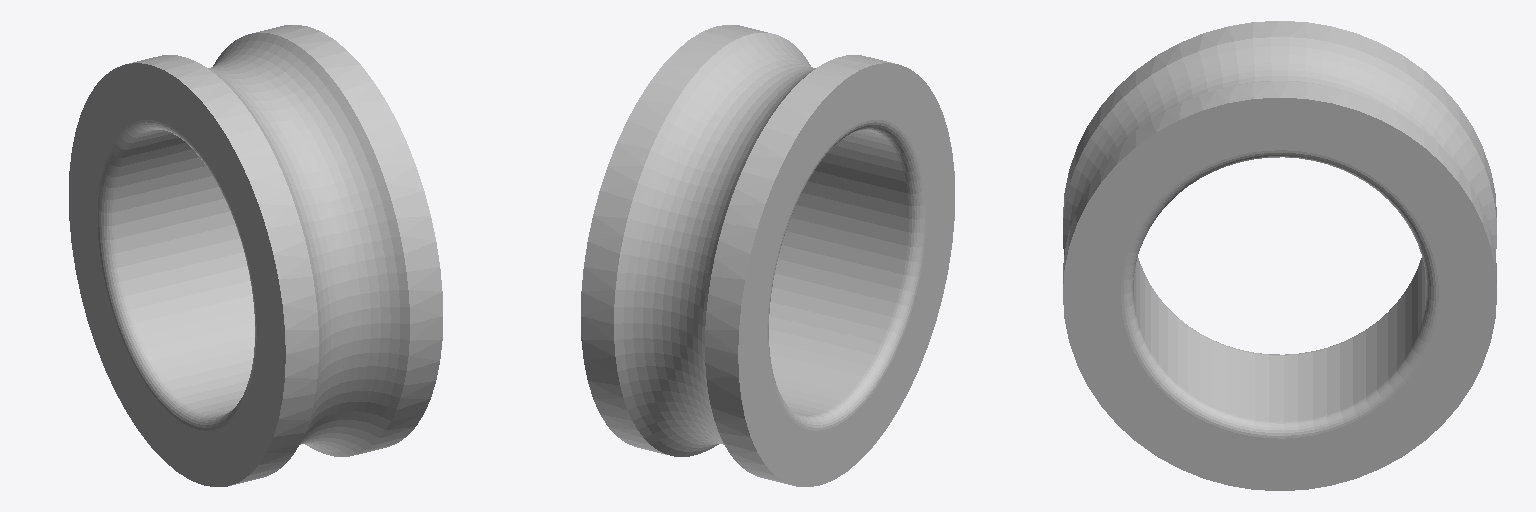
Rendered from inner_ring.obj.
3 views of the same model, side by side, from view 1: azimuth 30°, elevation 25°; view 2: azimuth 150°, elevation 25°; view 3: azimuth 270°, elevation 25° (orthographic).
Visible parts, largest first — view 1: Inner ring.SLDPRT; view 2: Inner ring.SLDPRT; view 3: Inner ring.SLDPRT.
Boxes of the visible parts, x1=… form: Inner ring.SLDPRT: x1=69, y1=25, x2=442, y2=486; Inner ring.SLDPRT: x1=581, y1=25, x2=954, y2=486; Inner ring.SLDPRT: x1=1063, y1=21, x2=1496, y2=490.
Bounding box in the file's own units: 31 × 74 × 74.